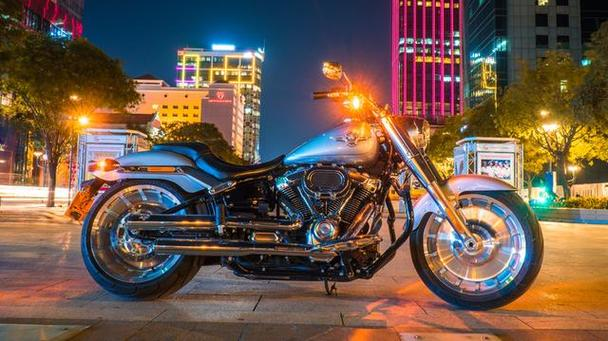摩托车: (69, 61, 551, 303)
